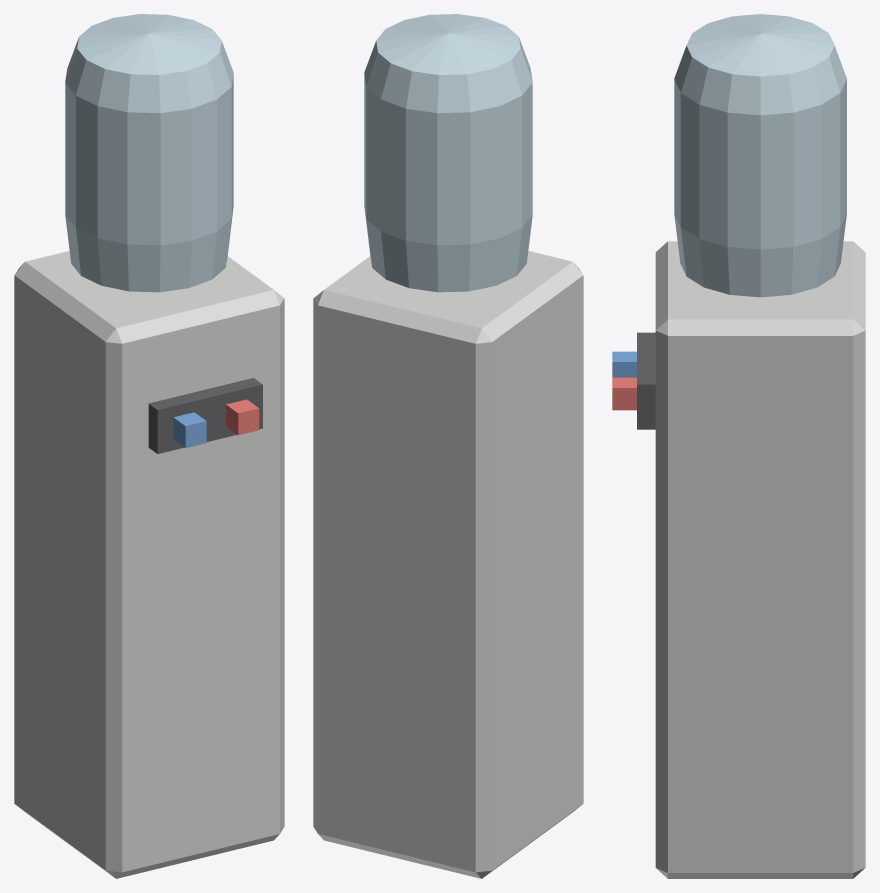
File: water_cooler.glb
3 views of the same model, side by side, from view 1: azimuth 30°, elevation 25°; view 2: azimuth 150°, elevation 25°; view 3: azimuth 270°, elevation 25° (orthographic).
Parts seen in each view (by area): view 1: water_cooler_paint_w, water_cooler_glass, water_cooler_dark, water_cooler_flag_r, water_cooler_flag_b; view 2: water_cooler_paint_w, water_cooler_glass; view 3: water_cooler_paint_w, water_cooler_glass, water_cooler_dark, water_cooler_flag_r, water_cooler_flag_b.
Boxes of the visible parts, left/top/right/bottom form: water_cooler_paint_w: left=14, top=251, right=284, bottom=878; water_cooler_glass: left=65, top=14, right=233, bottom=292; water_cooler_dark: left=148, top=378, right=262, bottom=453; water_cooler_flag_r: left=226, top=399, right=259, bottom=435; water_cooler_flag_b: left=173, top=412, right=206, bottom=448; water_cooler_paint_w: left=313, top=251, right=583, bottom=878; water_cooler_glass: left=364, top=14, right=532, bottom=292; water_cooler_paint_w: left=655, top=241, right=865, bottom=878; water_cooler_glass: left=674, top=14, right=846, bottom=297; water_cooler_dark: left=637, top=332, right=655, bottom=429; water_cooler_flag_r: left=612, top=377, right=636, bottom=410; water_cooler_flag_b: left=612, top=351, right=636, bottom=377.
Bounding box in the file's own units: 0.34 × 1.44 × 0.41.
